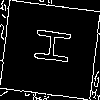H: (24, 24, 72, 67)
